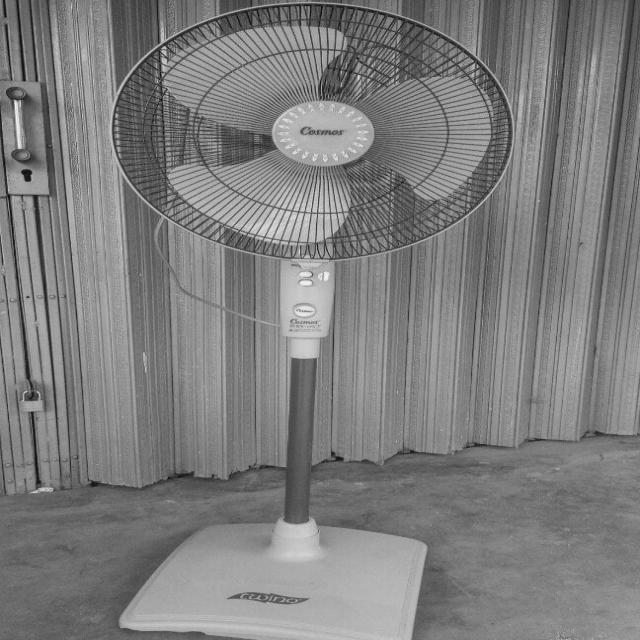fan: (102, 0, 520, 640)
